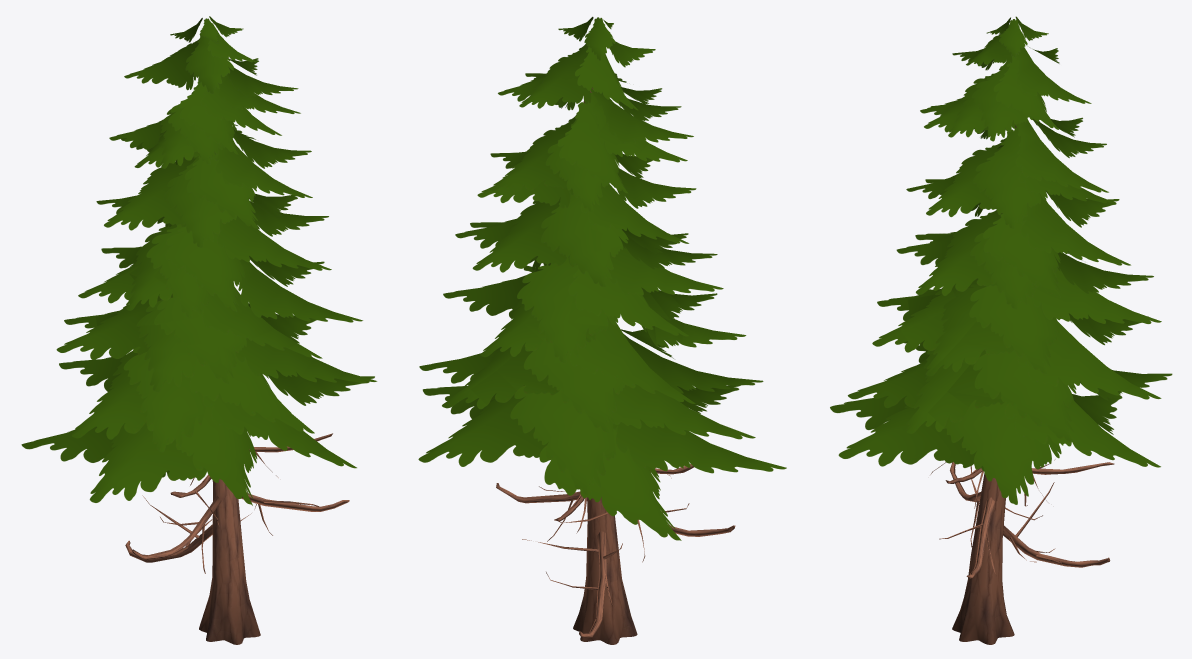
Rendered from tree_pine.glb.
3 renders of one model, left to right at view 1: azimuth 30°, elevation 25°; view 2: azimuth 150°, elevation 25°; view 3: azimuth 270°, elevation 25°, orthographic. The views are drawn at different scales.
Parts seen in each view (by area): view 1: Pine_4; view 2: Pine_4; view 3: Pine_4.
Boxes of the visible parts, bbox=[...] form: Pine_4: bbox=[21, 16, 377, 644]; Pine_4: bbox=[418, 16, 786, 644]; Pine_4: bbox=[830, 16, 1172, 644].
Size of the model in its own units: 4.53 by 8 by 4.2.
Materials: 2 (2 with a texture image).
